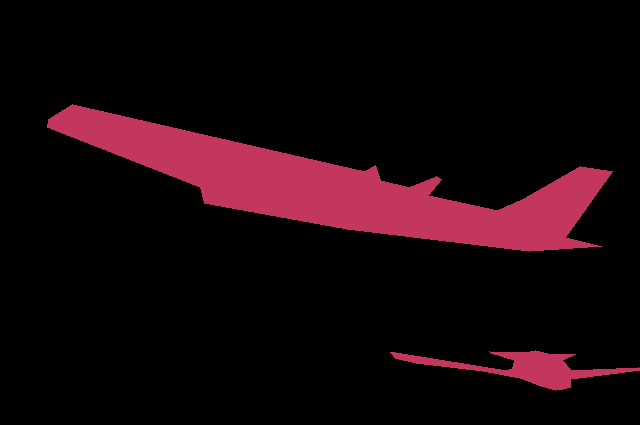Airplane: (47, 104, 612, 252), (390, 350, 640, 391)
